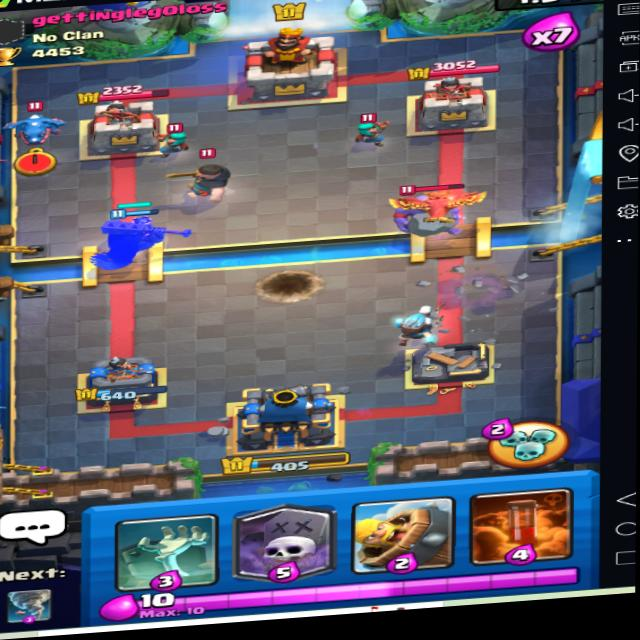bowler: (392, 177, 470, 238)
electro-dragon: (2, 95, 71, 154)
rascal-boy: (168, 145, 261, 202)
rascal-girl: (346, 108, 388, 146), (158, 122, 195, 156)
